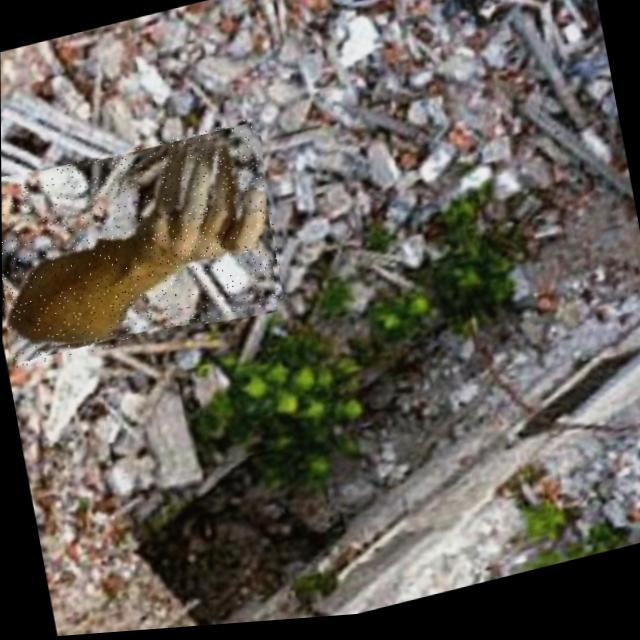Person in Rubble: (1, 120, 286, 372)
